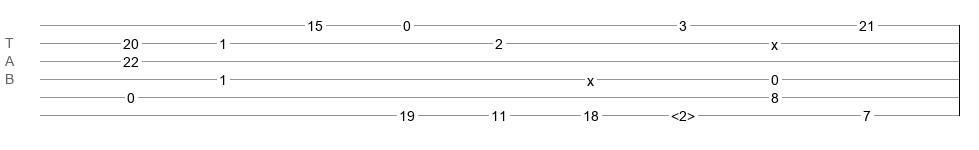0: (127, 90, 135, 100), (403, 18, 411, 28), (771, 72, 779, 82)
1: (219, 72, 227, 82), (219, 36, 227, 46)
11: (491, 108, 507, 118)
15: (307, 18, 323, 28)
18: (583, 108, 599, 118)
19: (399, 108, 415, 118)
2: (495, 36, 503, 46)
20: (123, 36, 139, 46)
21: (859, 18, 875, 28)
22: (123, 54, 139, 64)
3: (679, 18, 687, 28)
7: (863, 108, 871, 118)
8: (771, 90, 779, 100)
harmonic: (671, 108, 695, 118)
x: (587, 73, 594, 81), (771, 37, 778, 45)
